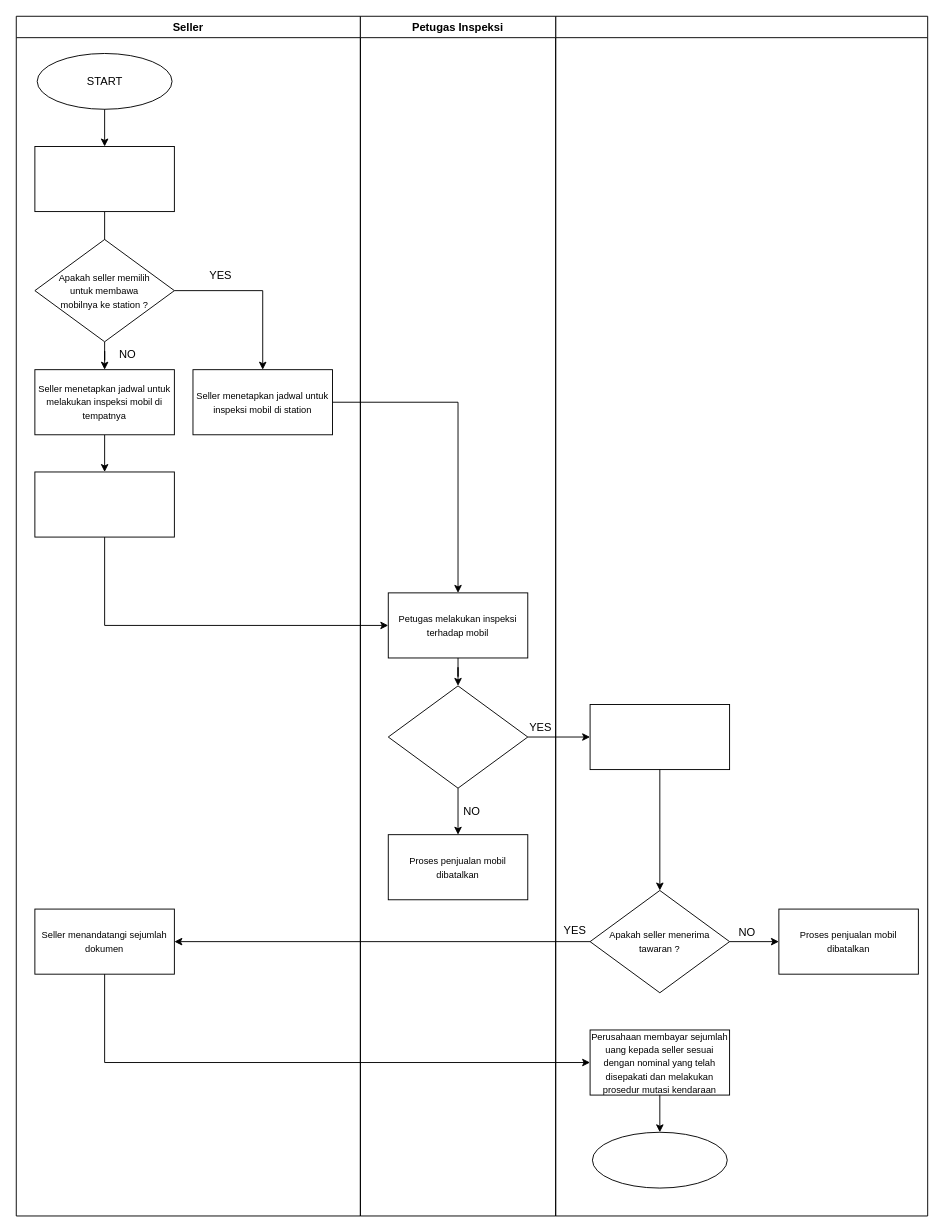
The diagram is 944 pixels wide and 1232 high, and some of its shapes have lost their labels. Here are the shapes that lost their labels. From the top down, the box of each, then its label:
(34, 146, 174, 212): Seller mengisi informasi mengenai mobilnya pada halaman website
(34, 471, 174, 537): Seller membayar biaya inspeksi
(555, 15, 928, 1216): Administrasi
(387, 685, 528, 788): Apakah mobil lolos inspeksi ?
(589, 704, 730, 770): Perusahaan memberikan tawaran kepada seller
(591, 1131, 727, 1188): END
